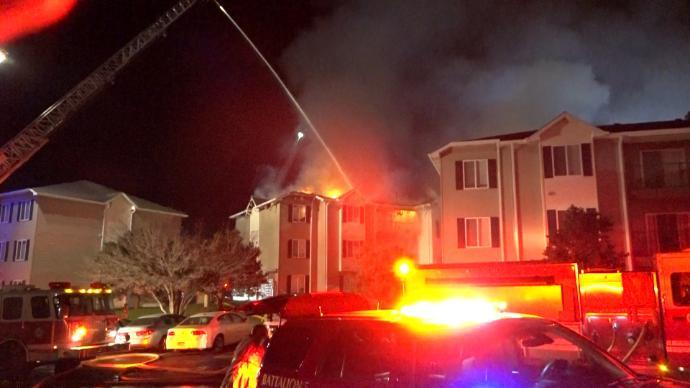smoke: (292, 5, 690, 129), (271, 131, 442, 206), (246, 164, 270, 206)
